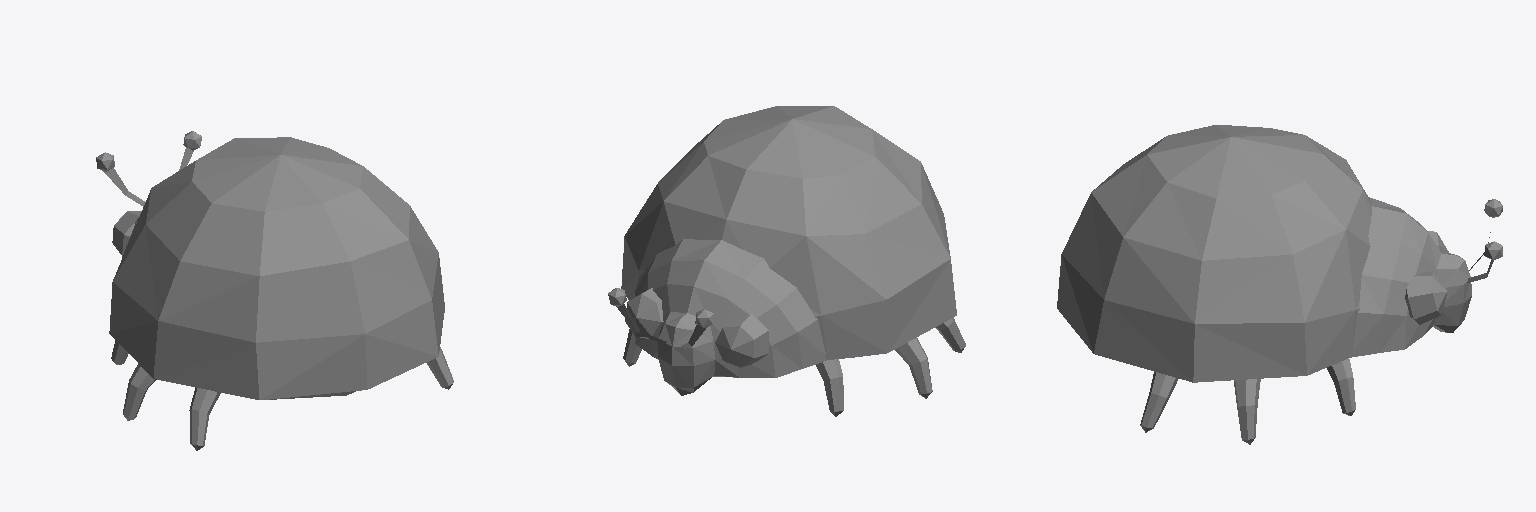
File: googlepoly.obj
3 renders of one model, left to right at view 1: azimuth 30°, elevation 25°; view 2: azimuth 150°, elevation 25°; view 3: azimuth 270°, elevation 25°, orthographic.
Parts seen in each view (by area): view 1: Sphere01; view 2: Sphere01; view 3: Sphere01.
Part boxes in pixels (x1,y1,x2,y2): Sphere01: (96, 131, 453, 450); Sphere01: (608, 106, 965, 416); Sphere01: (1057, 125, 1502, 444).
Size of the model in its own units: 0.6854 by 0.5258 by 0.8929.